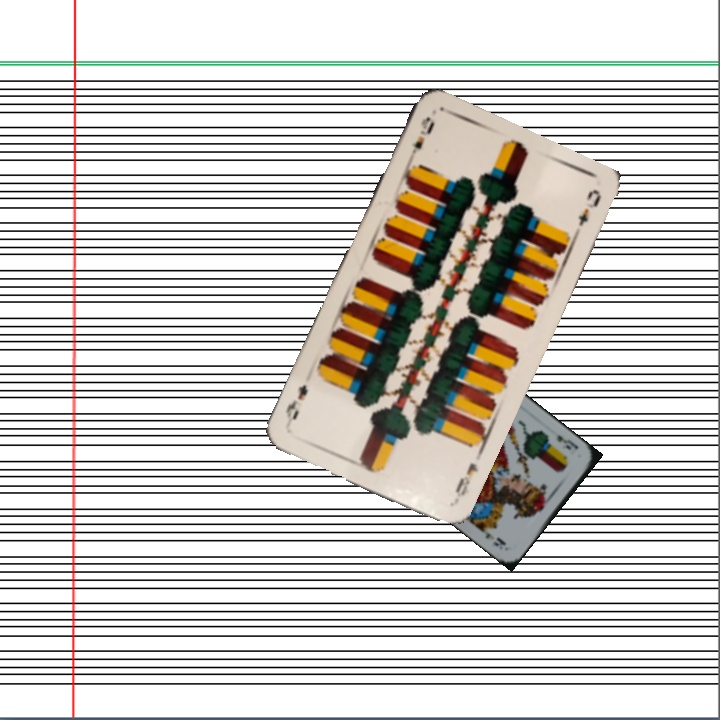E9: (404, 112, 438, 165), (451, 459, 481, 500)
EK: (552, 431, 581, 453)
